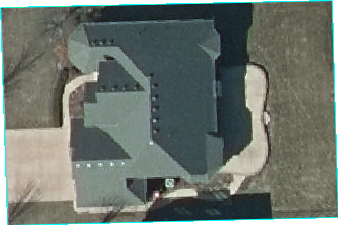house: (64, 18, 225, 209)
